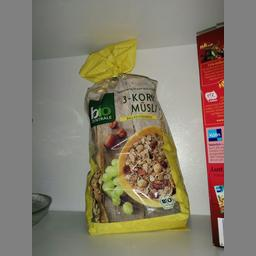cereal: (75, 38, 192, 233)
